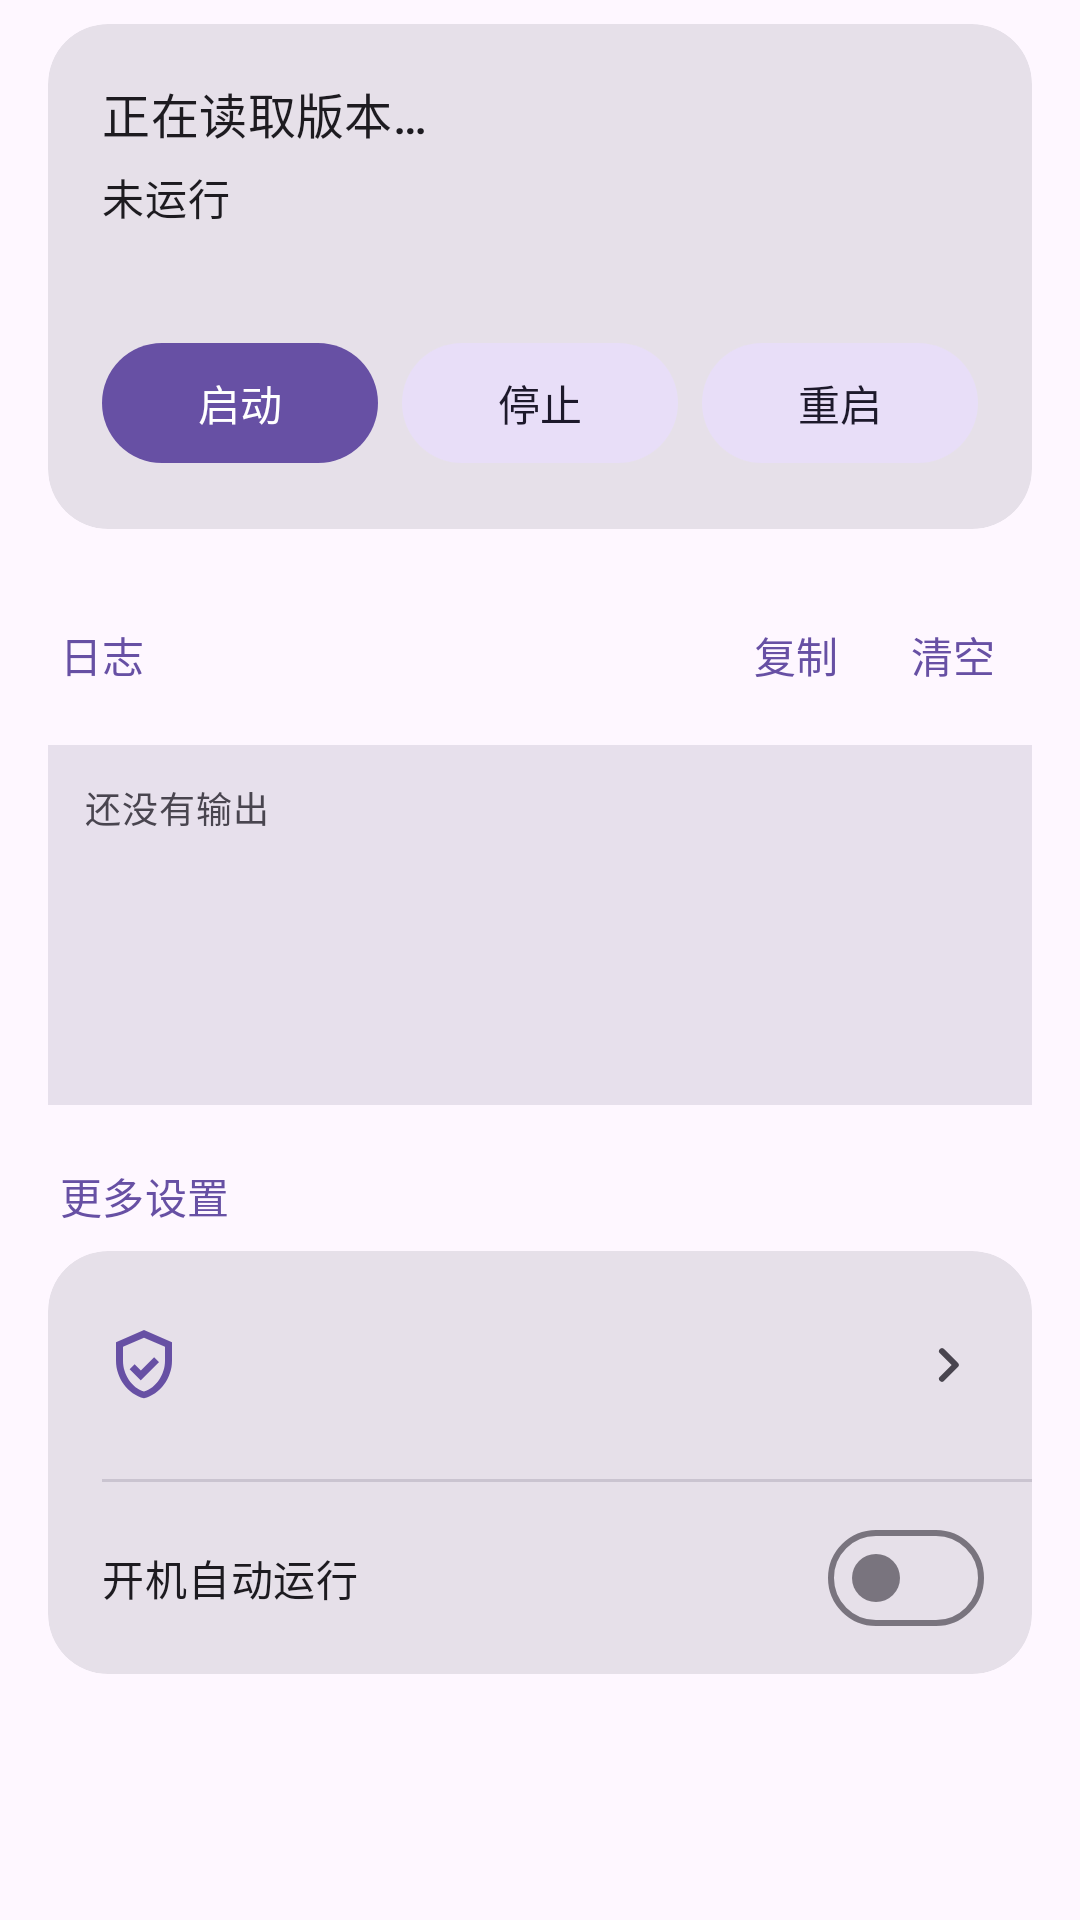

Named icons in this screenshot (1080×1920) and their centers, (x,y):
chevron right: (949,1365)
shield: (144,1364)
